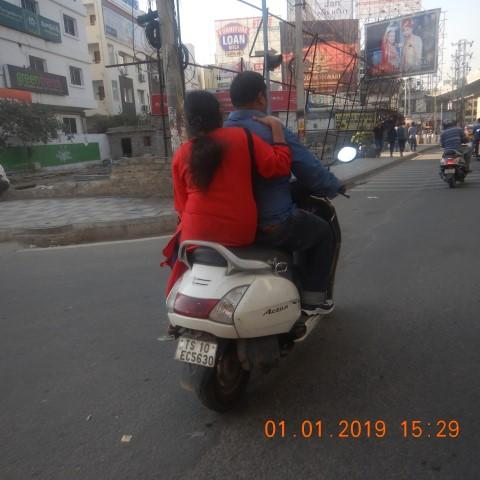plate: (177, 339, 215, 369)
